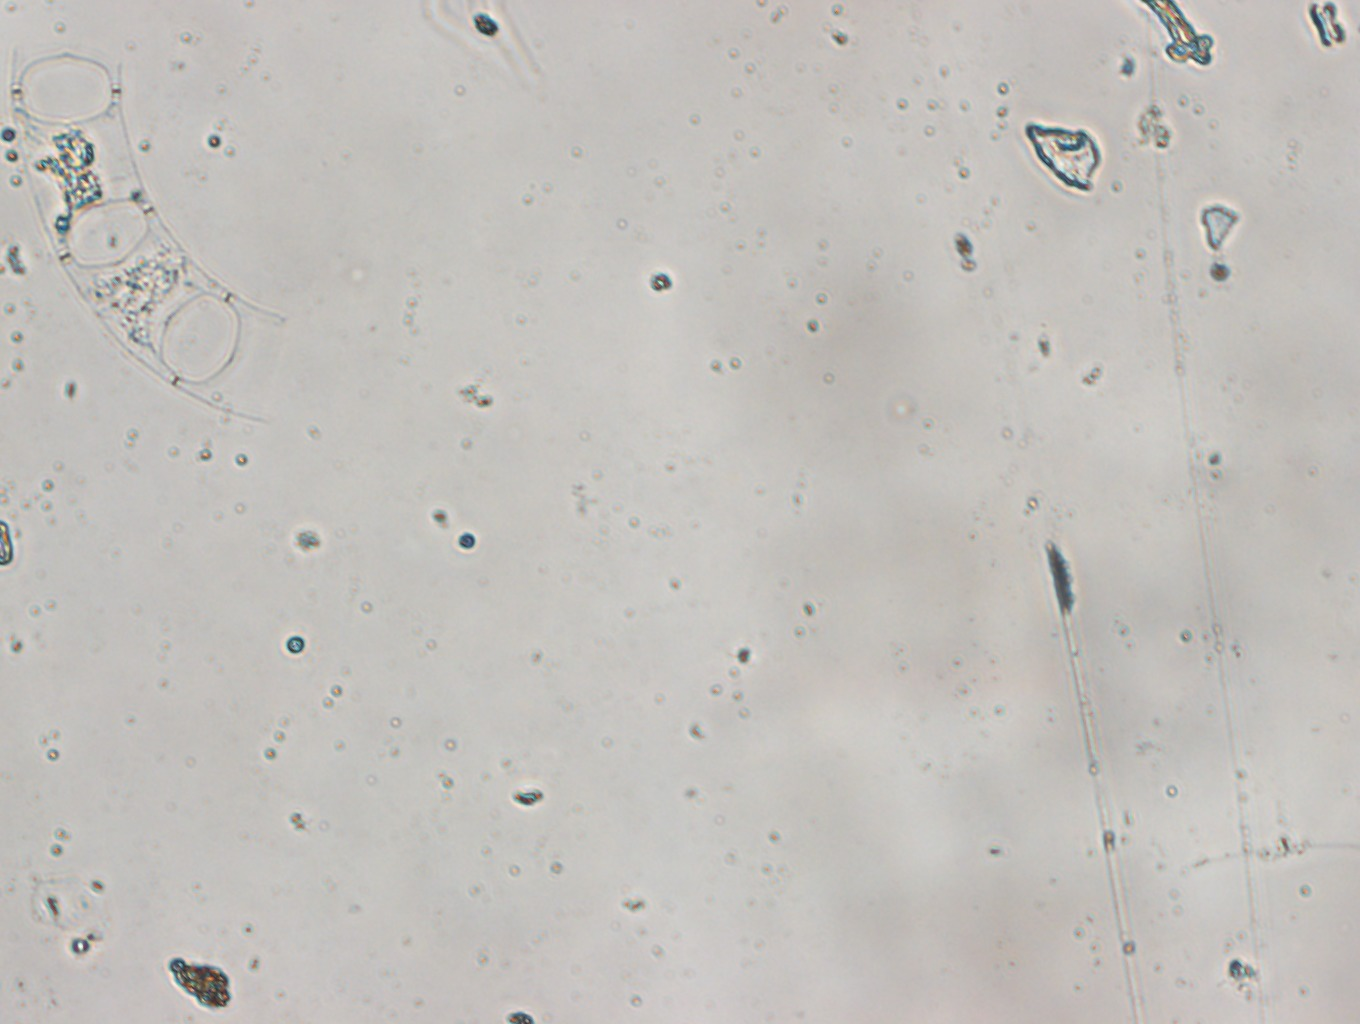eucampia: (8, 37, 283, 433)
